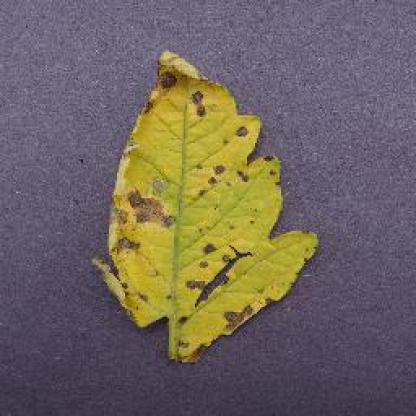bad leaf: (92, 36, 324, 369)
